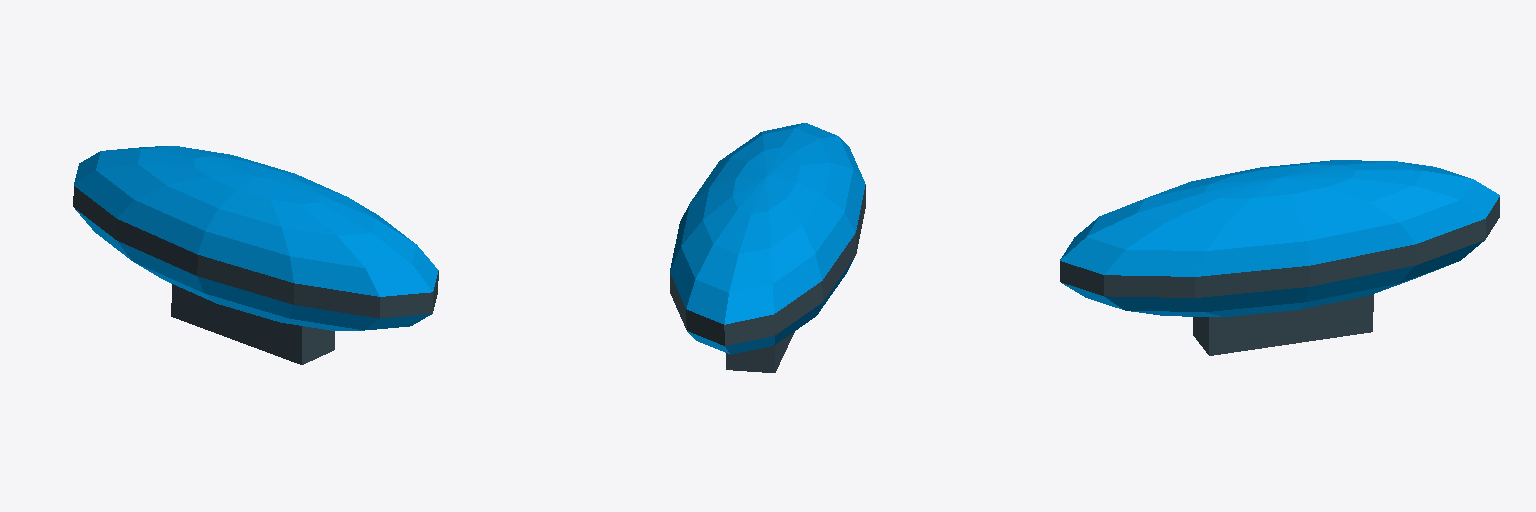
The model's file is model-triangulated.obj.
3 views of the same model, side by side, from view 1: azimuth 30°, elevation 25°; view 2: azimuth 150°, elevation 25°; view 3: azimuth 270°, elevation 25° (orthographic).
Parts seen in each view (by area): view 1: group[number redacted], group[number redacted]; view 2: group[number redacted], group[number redacted]; view 3: group[number redacted], group[number redacted].
Part boxes in pixels (x1,y1,x2,y2): group[number redacted]: (73,146,438,330); group[number redacted]: (171,284,334,364); group[number redacted]: (670,123,865,354); group[number redacted]: (726,332,794,372); group[number redacted]: (1060,160,1499,316); group[number redacted]: (1193,294,1373,355).
Size of the model in its own units: 0.3597 by 0.2798 by 0.7075.